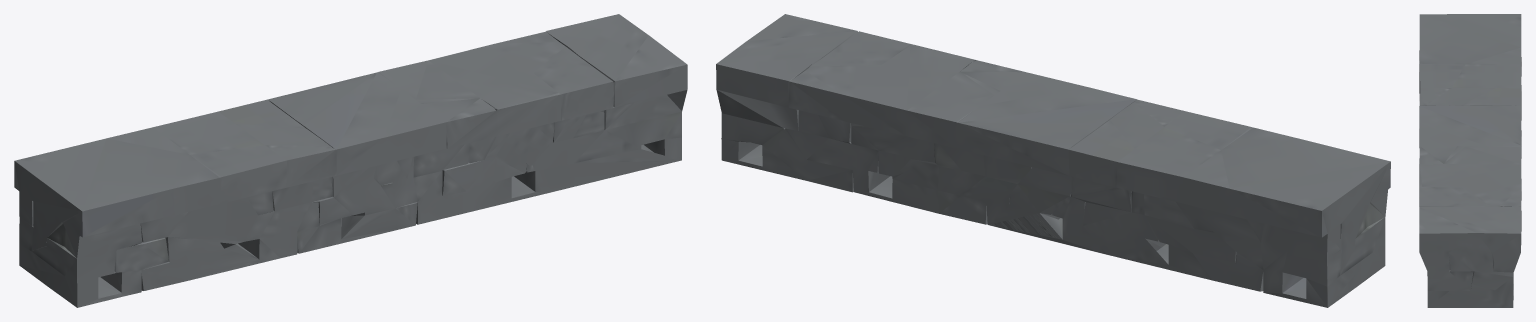
Rendered from wall_parapet.glb.
The picture shows the model from 3 angles, left to right: view 1: azimuth 30°, elevation 25°; view 2: azimuth 150°, elevation 25°; view 3: azimuth 270°, elevation 25°; orthographic projection. The views are drawn at different scales.
Size of the model in its own units: 1.9 by 0.3048 by 0.3752.
1 material, 1 textured.
